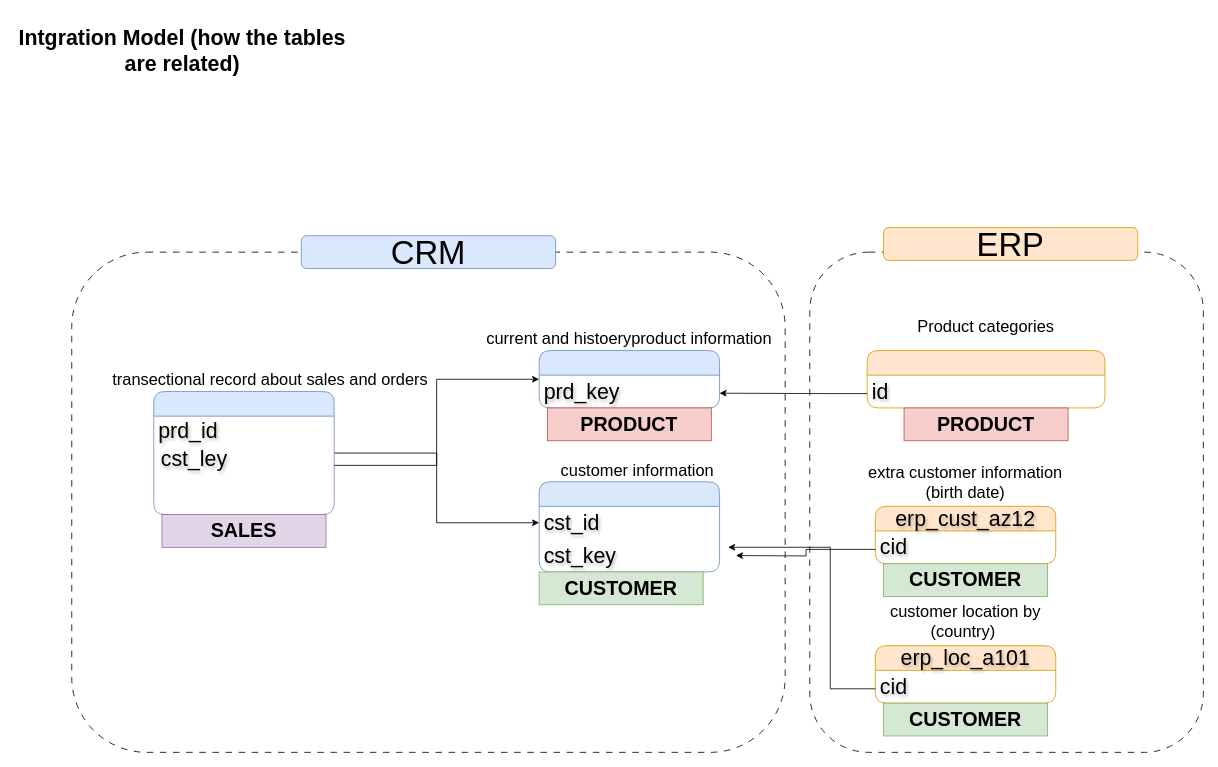
Image size: 1218x767. Some labels were removed from this diagram. Each missing label, with the box of its shape:
crm_cust_info: (538, 481, 720, 572)
crm_prd_info: (538, 350, 720, 408)
crm_sales_details: (153, 391, 334, 515)
erp_px_cat_g1v2: (866, 350, 1105, 408)
